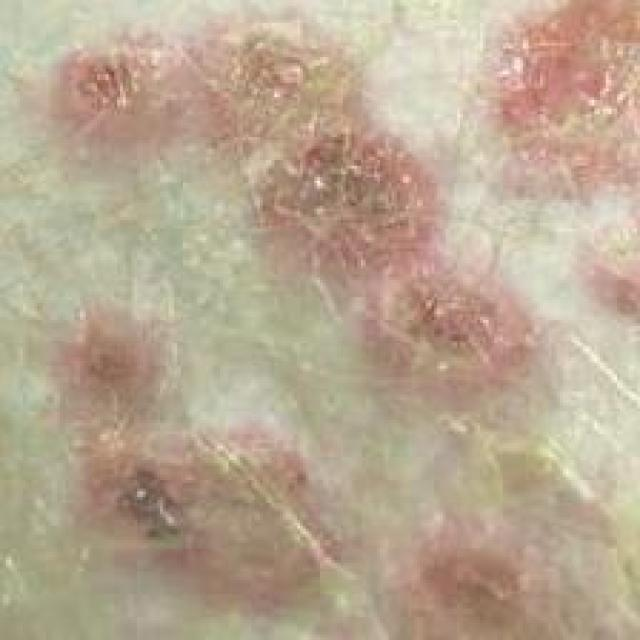monkeypox: (39, 22, 639, 640)
